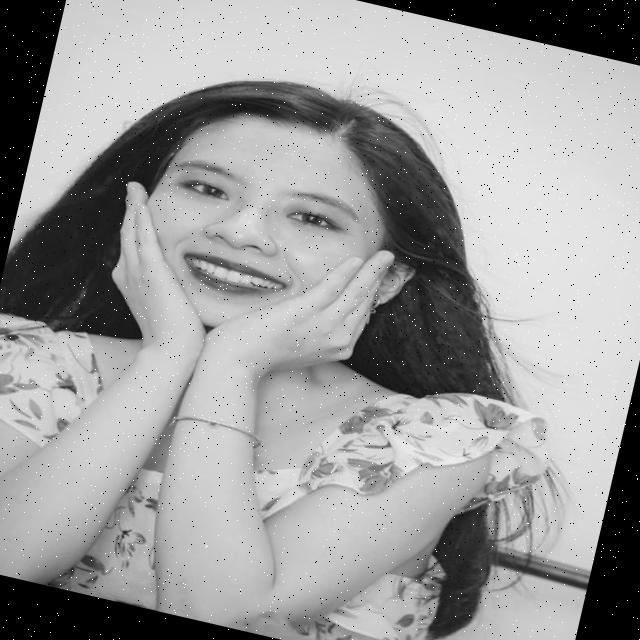Happiness: (126, 96, 403, 360)
